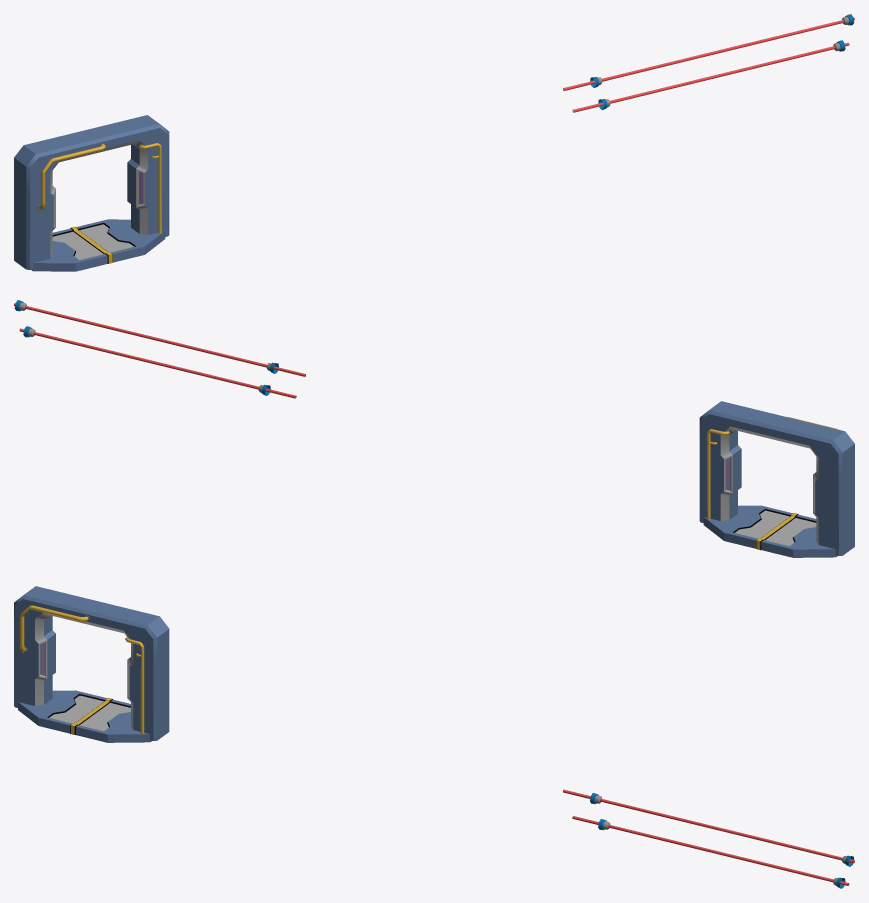
Rendered from DoorLasers.fbx.
3 views of the same model, one above another, from view 1: azimuth 30°, elevation 25°; view 2: azimuth 150°, elevation 25°; view 3: azimuth 330°, elevation 25° (orthographic).
Visible parts, largest first — view 1: Door, Lasers; view 2: Door, Lasers; view 3: Door, Lasers.
Boxes of the visible parts, x1=… form: Door: x1=14, y1=115, x2=169, y2=271; Lasers: x1=563, y1=14, x2=854, y2=112; Door: x1=699, y1=401, x2=854, y2=557; Lasers: x1=14, y1=300, x2=305, y2=398; Door: x1=14, y1=586, x2=169, y2=742; Lasers: x1=563, y1=789, x2=854, y2=888.
Size of the model in its own units: 3177 by 419 by 249.
